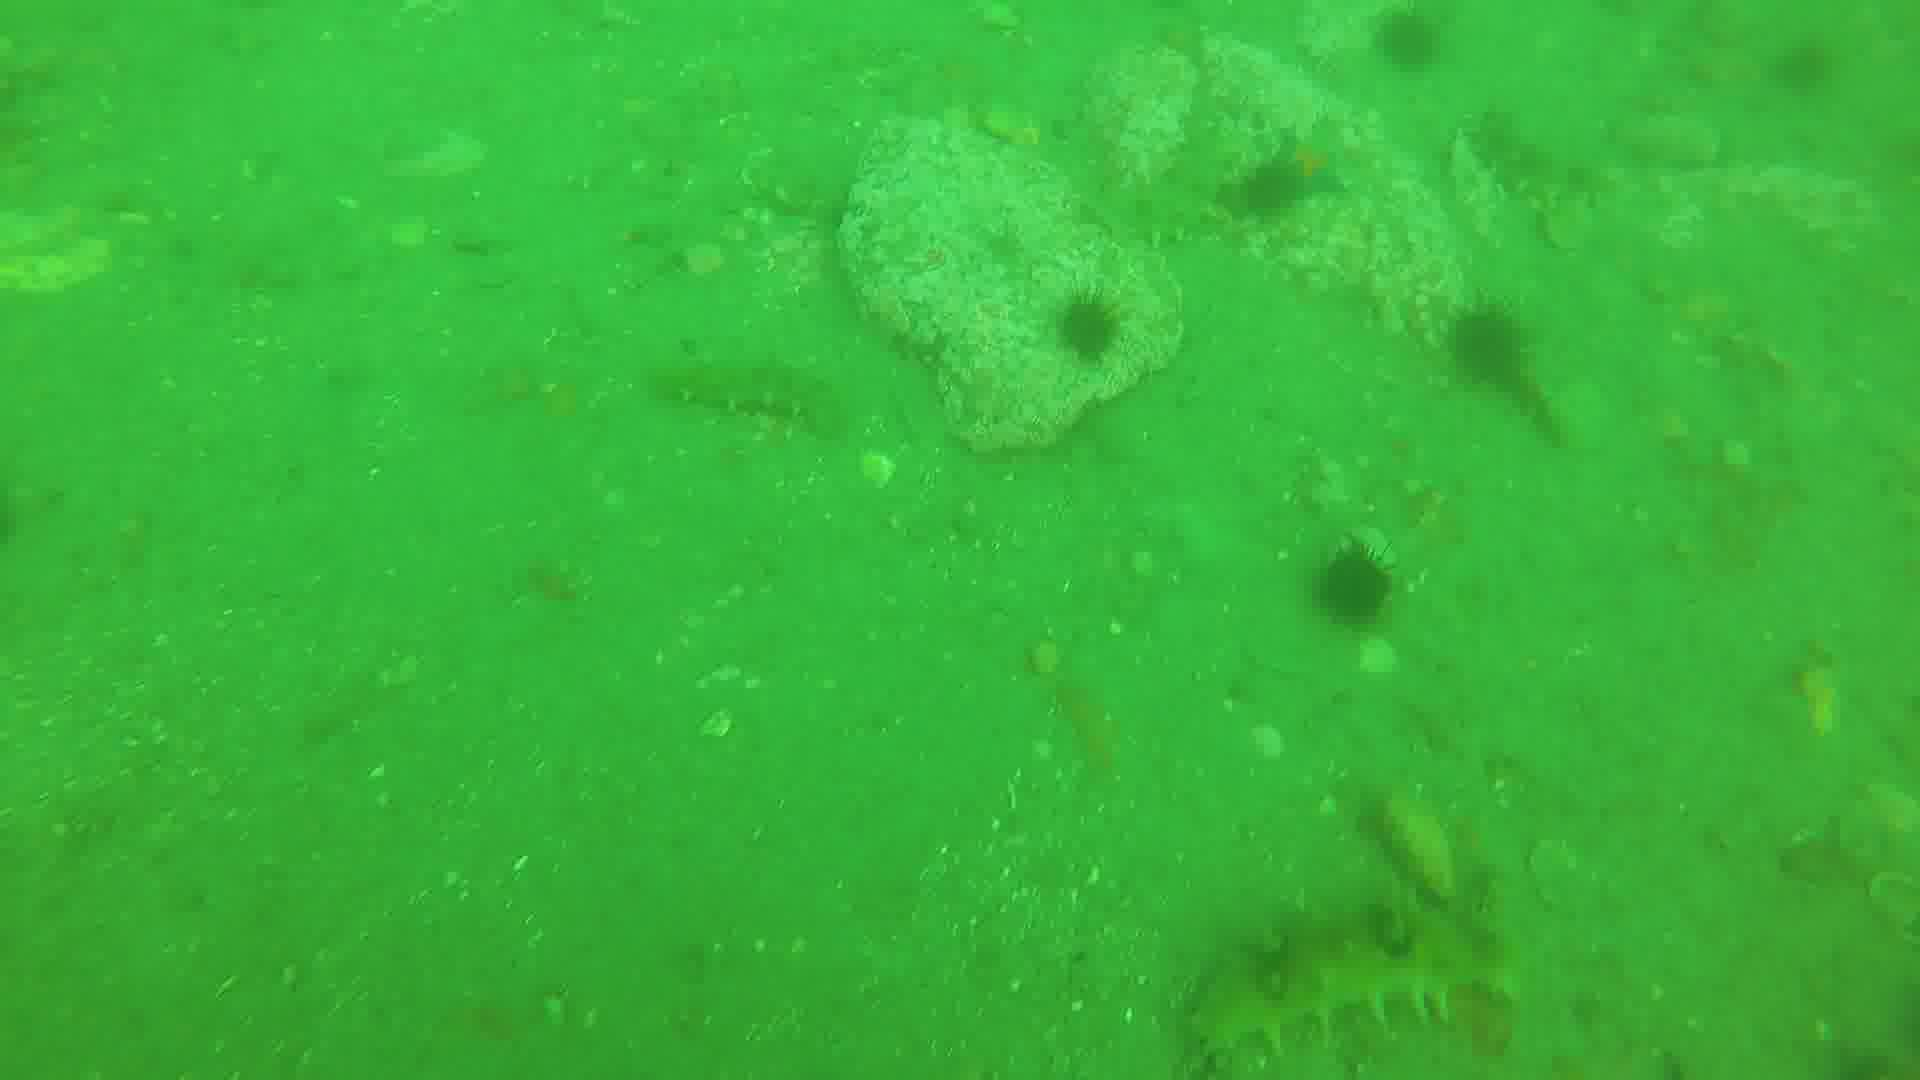echinus: (1308, 549, 1396, 636), (1453, 303, 1534, 385), (1065, 293, 1129, 371), (1381, 7, 1453, 69), (1226, 158, 1294, 216)
holothurian: (1193, 909, 1513, 1062), (1100, 124, 1237, 243), (658, 353, 845, 439), (1472, 108, 1604, 214)
starfish: (1269, 136, 1358, 200)
